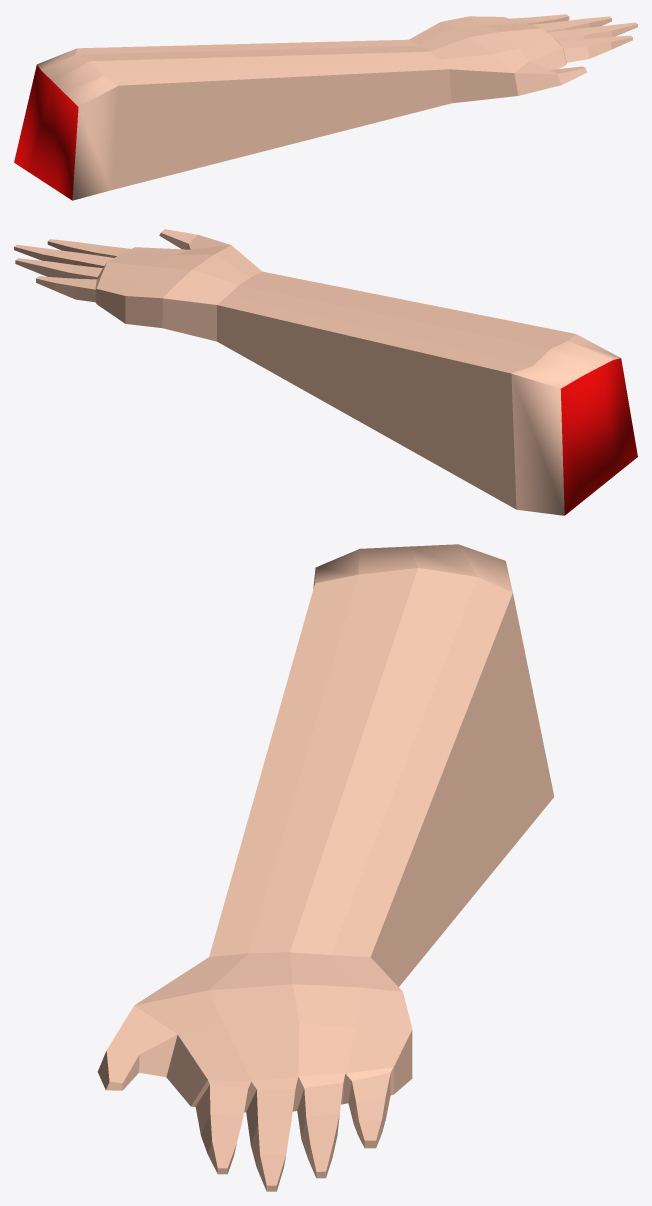
File: Arm.glb
The picture shows the model from 3 angles, top to bottom: view 1: azimuth 30°, elevation 25°; view 2: azimuth 150°, elevation 25°; view 3: azimuth 270°, elevation 25°; orthographic projection. The views are drawn at different scales.
Visible parts, largest first — view 1: character; view 2: character; view 3: character.
Boxes of the visible parts, bbox=[...] form: character: bbox=[14, 14, 637, 200]; character: bbox=[14, 229, 637, 515]; character: bbox=[97, 544, 554, 1191].
Size of the model in its own units: 3.76 by 0.7674 by 1.33.
